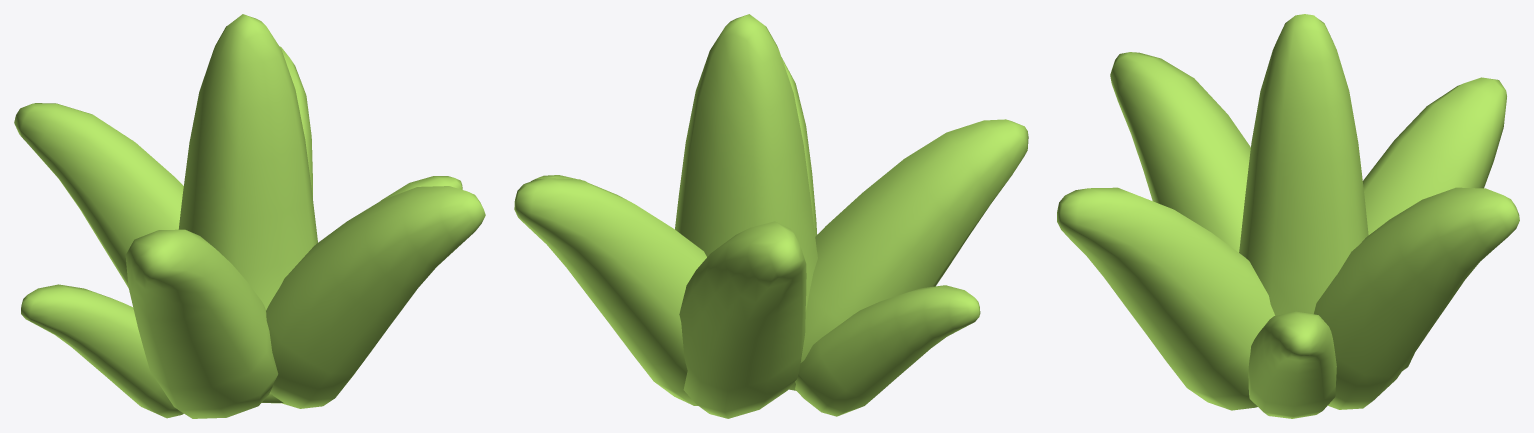
The model's file is pasto 7 hojas uv.fbx.
3 renders of one model, left to right at view 1: azimuth 30°, elevation 25°; view 2: azimuth 150°, elevation 25°; view 3: azimuth 270°, elevation 25°, orthographic. The views are drawn at different scales.
Visible parts, largest first — view 1: pasto 7 hojas; view 2: pasto 7 hojas; view 3: pasto 7 hojas.
Boxes of the visible parts, x1,y1,x2,y2 form: pasto 7 hojas: [14, 14, 485, 418]; pasto 7 hojas: [514, 14, 1028, 418]; pasto 7 hojas: [1057, 14, 1519, 418].
Bounding box in the file's own units: 332 × 265 × 292.
